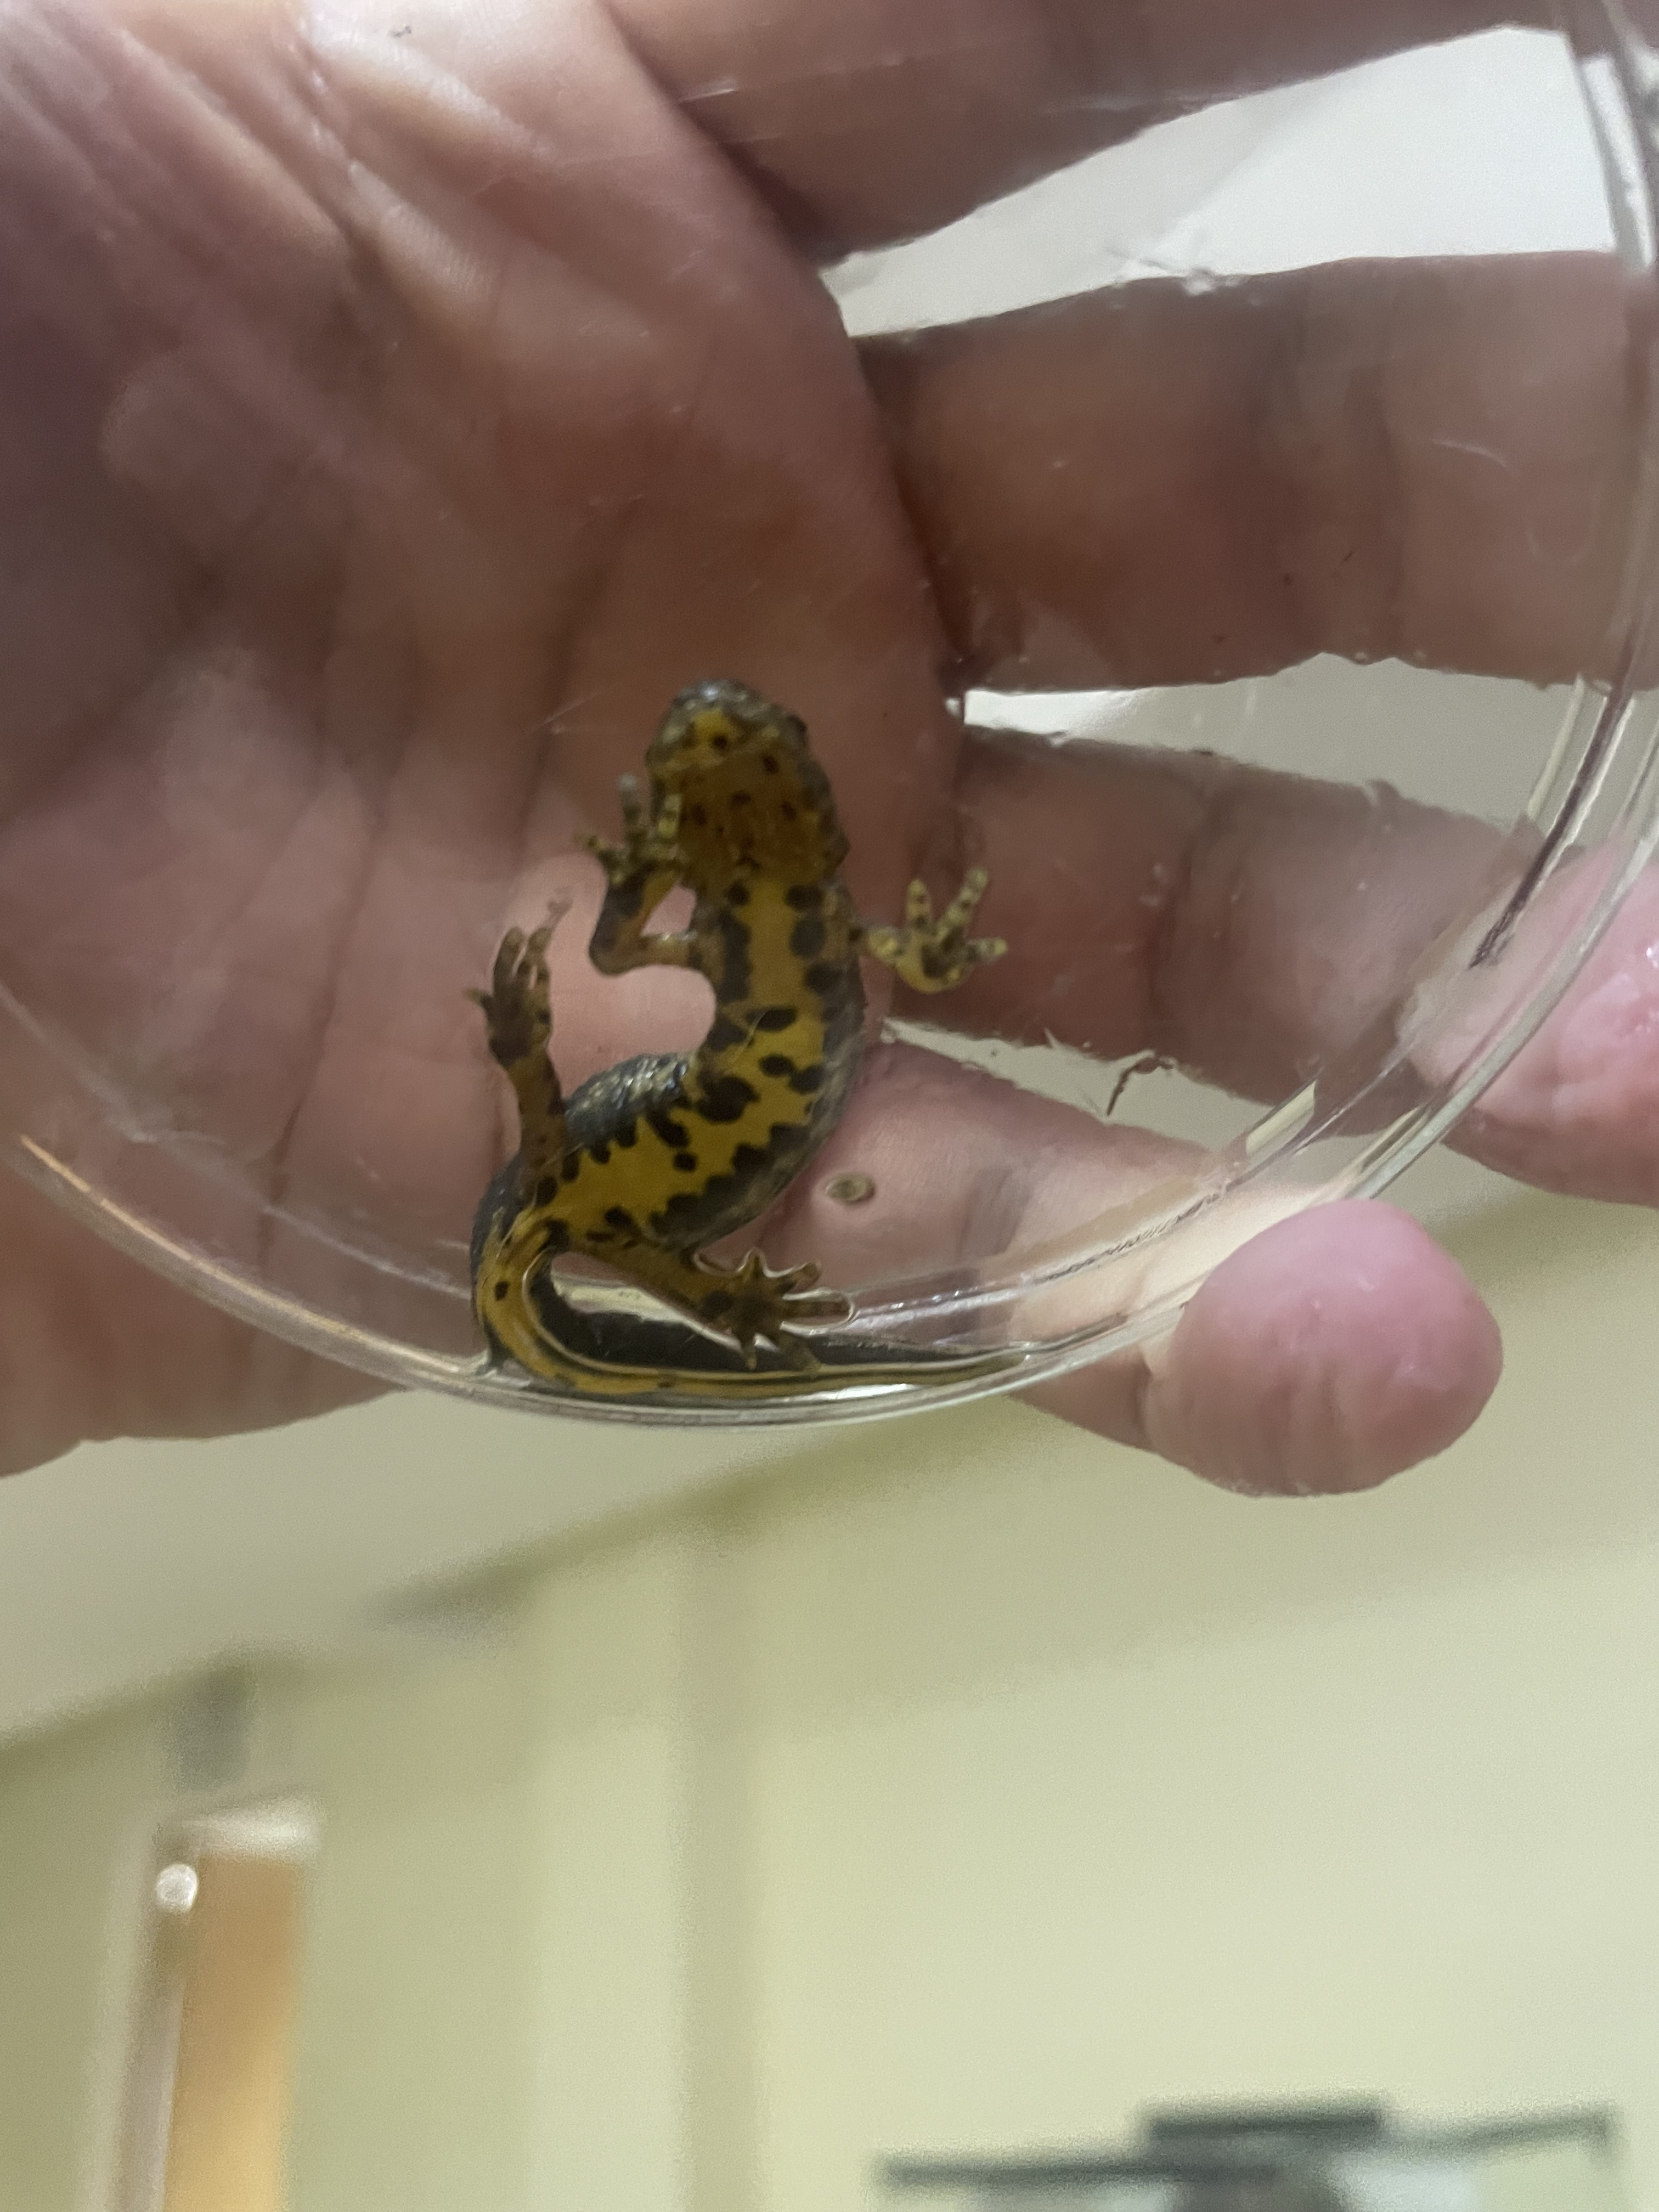Karelin_newt: (563, 951, 866, 1252)
